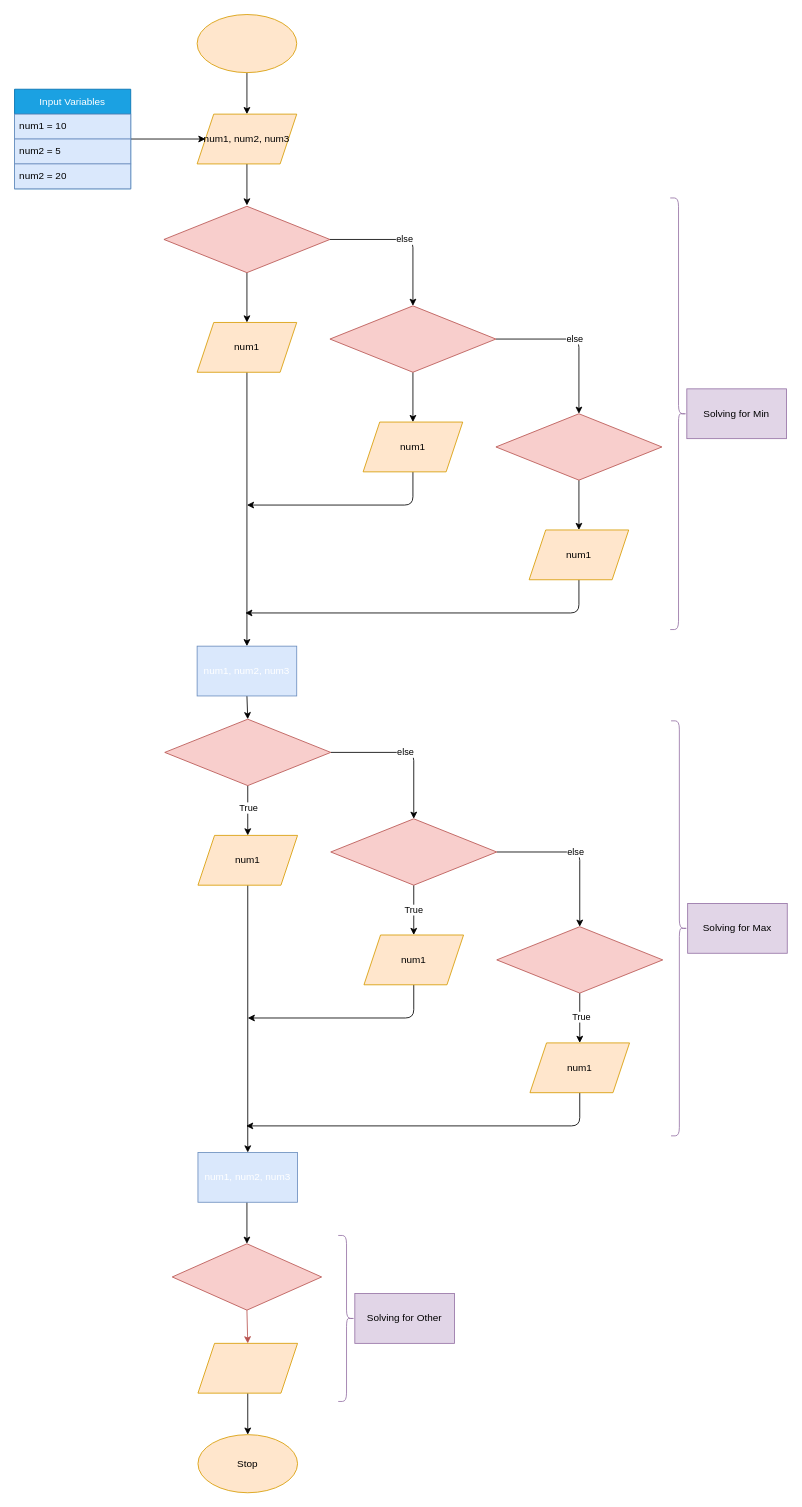
Image size: 802x1507. Some labels were removed from this diagram. The shapes that lost their labels are listed below. From the top down, each one's centre as x and y in pixels, then its label:
the point at 246,43: Start
the point at 246,239: num1 < num2 and num1 < num3
the point at 412,338: num2 < num1 and num2 < num3
the point at 578,446: num3 < num1 and num3 < num2
the point at 247,752: num1 > num2 and num1 > num3
the point at 413,851: num2 > num1 and num2 > num3
the point at 579,959: num3 > num1 and num3 > num2
the point at 246,1276: if not (Max) and not (Min)
the point at 247,1368: num1 or num2 or num3
